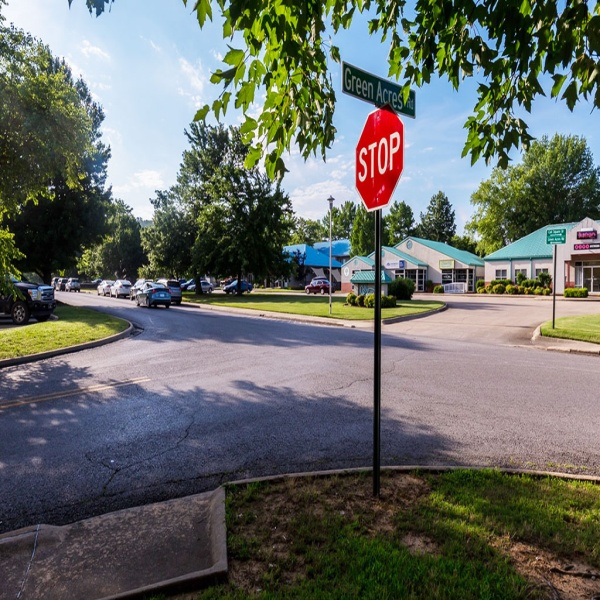stop: (346, 107, 404, 212)
